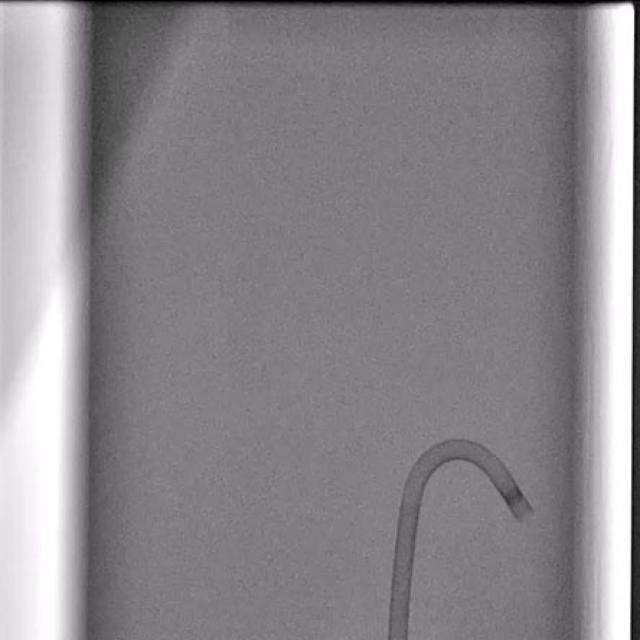bend: (399, 500, 422, 516)
entry: (388, 633, 409, 640)
marker: (504, 487, 524, 508)
tip: (515, 505, 533, 523)
